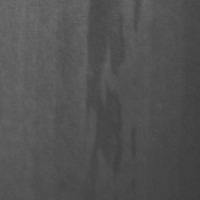inclusion: (84, 1, 129, 175)
